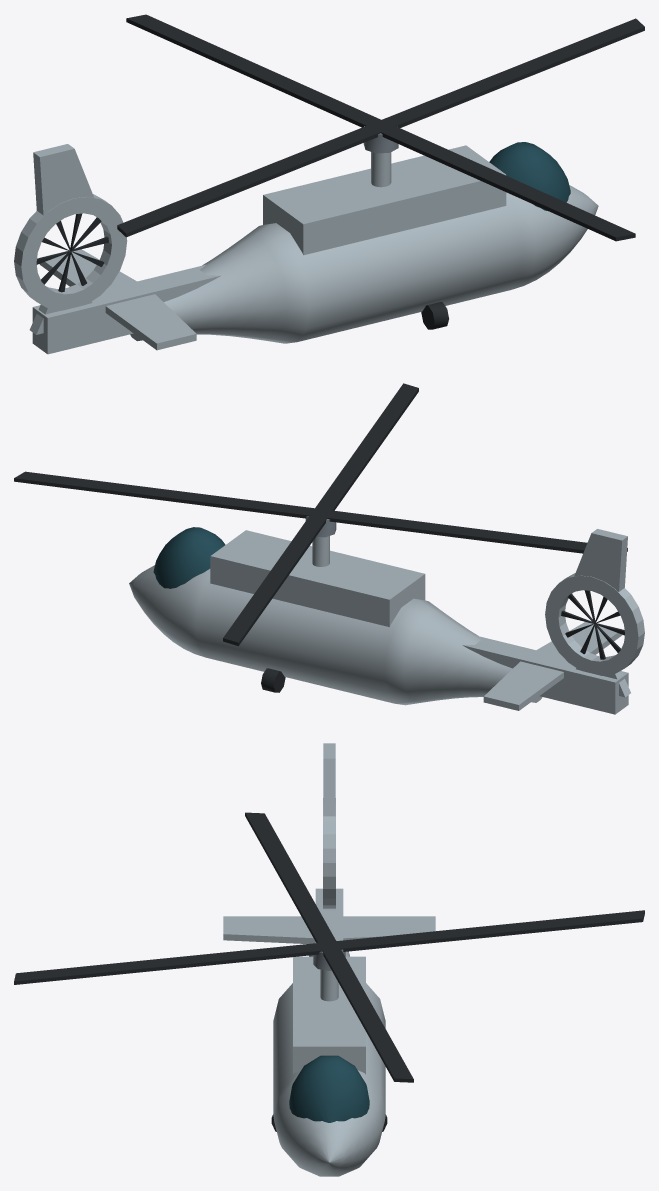
File: pla_helo_z9c.glb
3 views of the same model, one above another, from view 1: azimuth 30°, elevation 25°; view 2: azimuth 150°, elevation 25°; view 3: azimuth 270°, elevation 25° (orthographic). The views are drawn at different scales.
Visible parts, largest first — view 1: naval_paint, rubber, glazing; view 2: naval_paint, rubber, glazing; view 3: naval_paint, rubber, glazing.
Boxes of the visible parts, left/top/right/bottom form: naval_paint: left=14, top=144, right=598, bottom=354; rubber: left=36, top=14, right=644, bottom=329; glazing: left=489, top=142, right=570, bottom=210; naval_paint: left=129, top=529, right=644, bottom=714; rubber: left=14, top=383, right=627, bottom=692; glazing: left=153, top=527, right=225, bottom=588; naval_paint: left=223, top=743, right=435, bottom=1176; rubber: left=14, top=812, right=644, bottom=1131; glazing: left=289, top=1055, right=369, bottom=1122.
Size of the model in its own units: 10 by 3.54 by 9.07.
